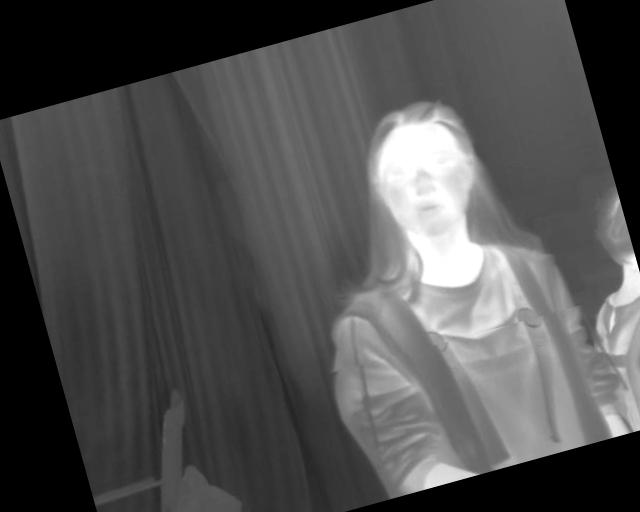face: (175, 230, 261, 328), (342, 145, 424, 242)
